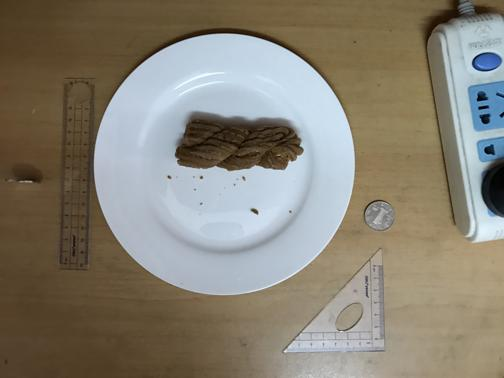coin: (363, 200, 395, 230)
fired_dough_twist: (172, 118, 304, 170)
